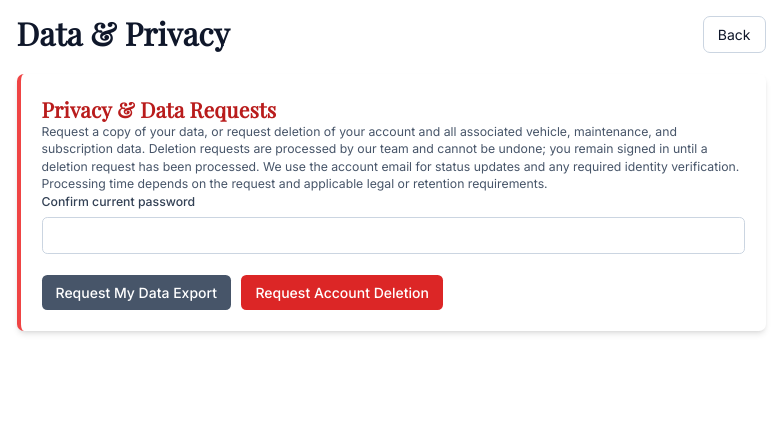
DataPrivacy › files an account deletion request and keeps the copy truthful about staying signed in
Click the button "Request Account Deletion" at x=342, y=292, box [241,275,443,310]
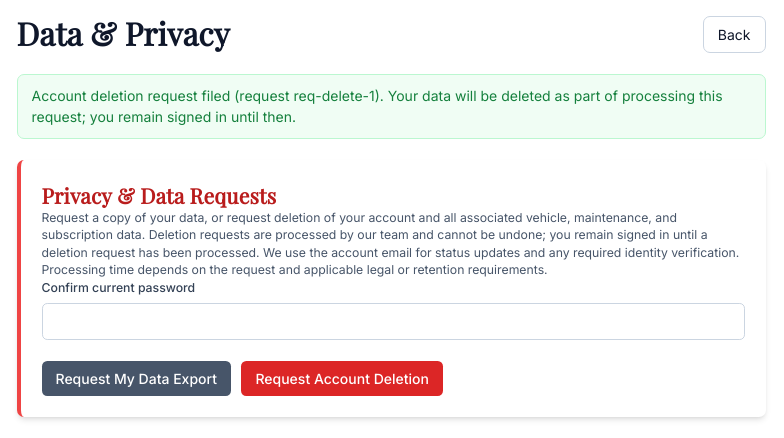
Check: the text "you remain signed in until then" is shown, box [32,87,723,125]
